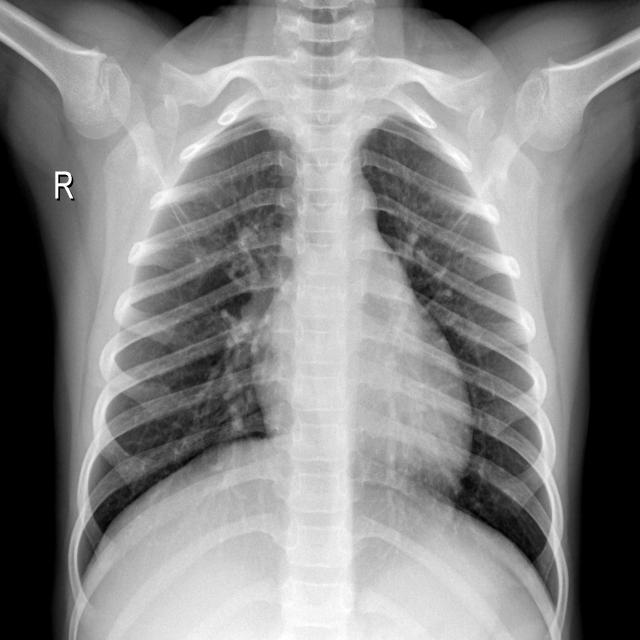no-pneumonia: (71, 120, 298, 597), (361, 117, 568, 614)
